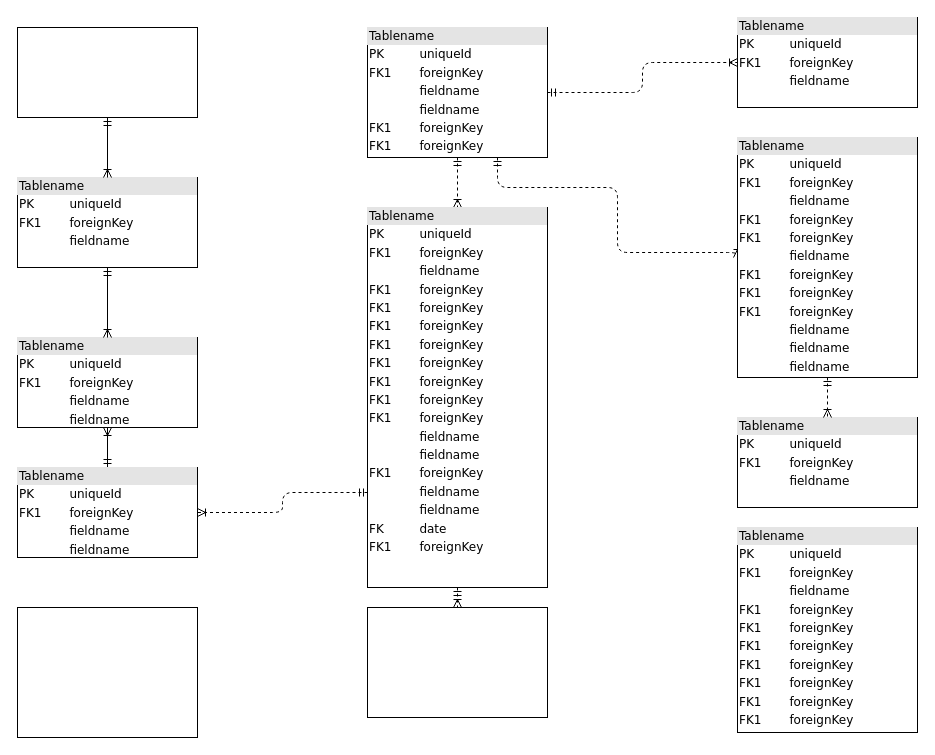
Some shapes in this 935 by 755 pixel diagram are drawn without their labels. The box of each missing label's shape, as (x1, y1, x2, y2) in pixels:
Tablename PK uniqueId FK1 foreignKey fieldname fieldname fieldname fieldname: (16, 606, 198, 738)
Tablename PK uniqueId FK1 foreignKey fieldname fieldname FK1 foreignKey: (366, 606, 548, 718)
Tablename PK uniqueId FK1 foreignKey1 fieldname: (16, 26, 198, 118)
